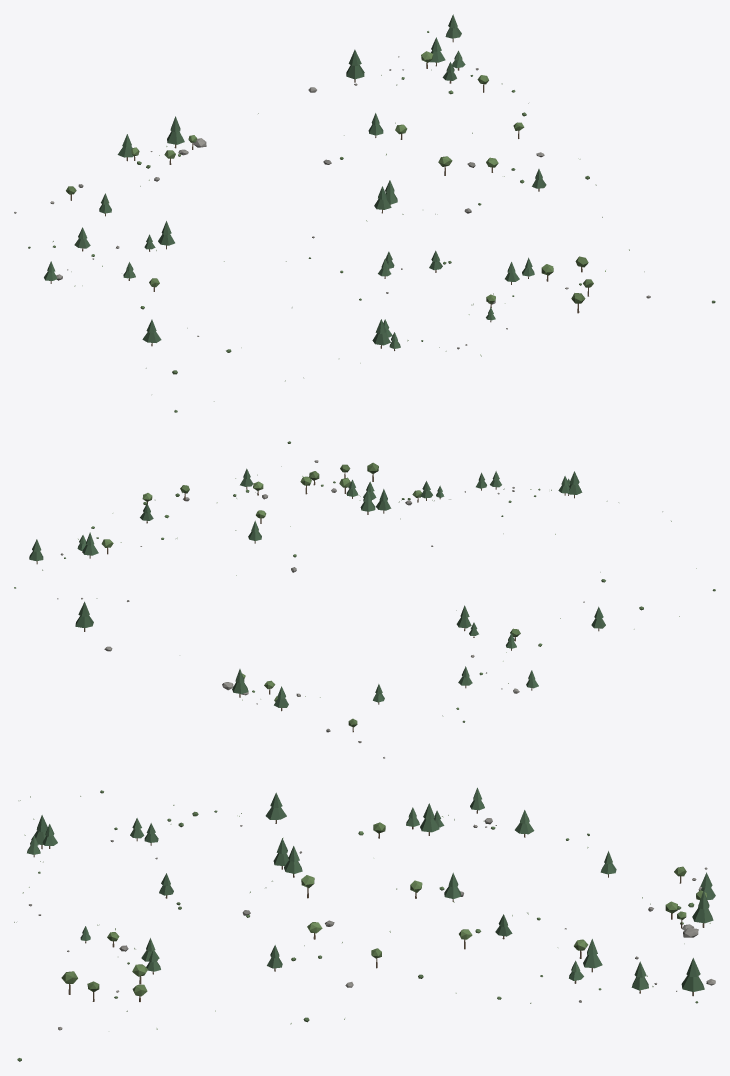
The model's file is arch_land_scatter_c20_19_lod1.glb.
3 renders of one model, top to bottom at view 1: azimuth 30°, elevation 25°; view 2: azimuth 150°, elevation 25°; view 3: azimuth 270°, elevation 25°, orthographic. The views are drawn at different scales.
Parts seen in each view (by area): view 1: arch_land_scatter_c20_19_lod1; view 2: arch_land_scatter_c20_19_lod1; view 3: arch_land_scatter_c20_19_lod1.
Boxes of the visible parts, x1=… form: arch_land_scatter_c20_19_lod1: x1=14, y1=14, x2=715, y2=412; arch_land_scatter_c20_19_lod1: x1=14, y1=441, x2=715, y2=758; arch_land_scatter_c20_19_lod1: x1=14, y1=787, x2=715, y2=1061.
Size of the model in its own units: 253 by 60.89 by 256.
